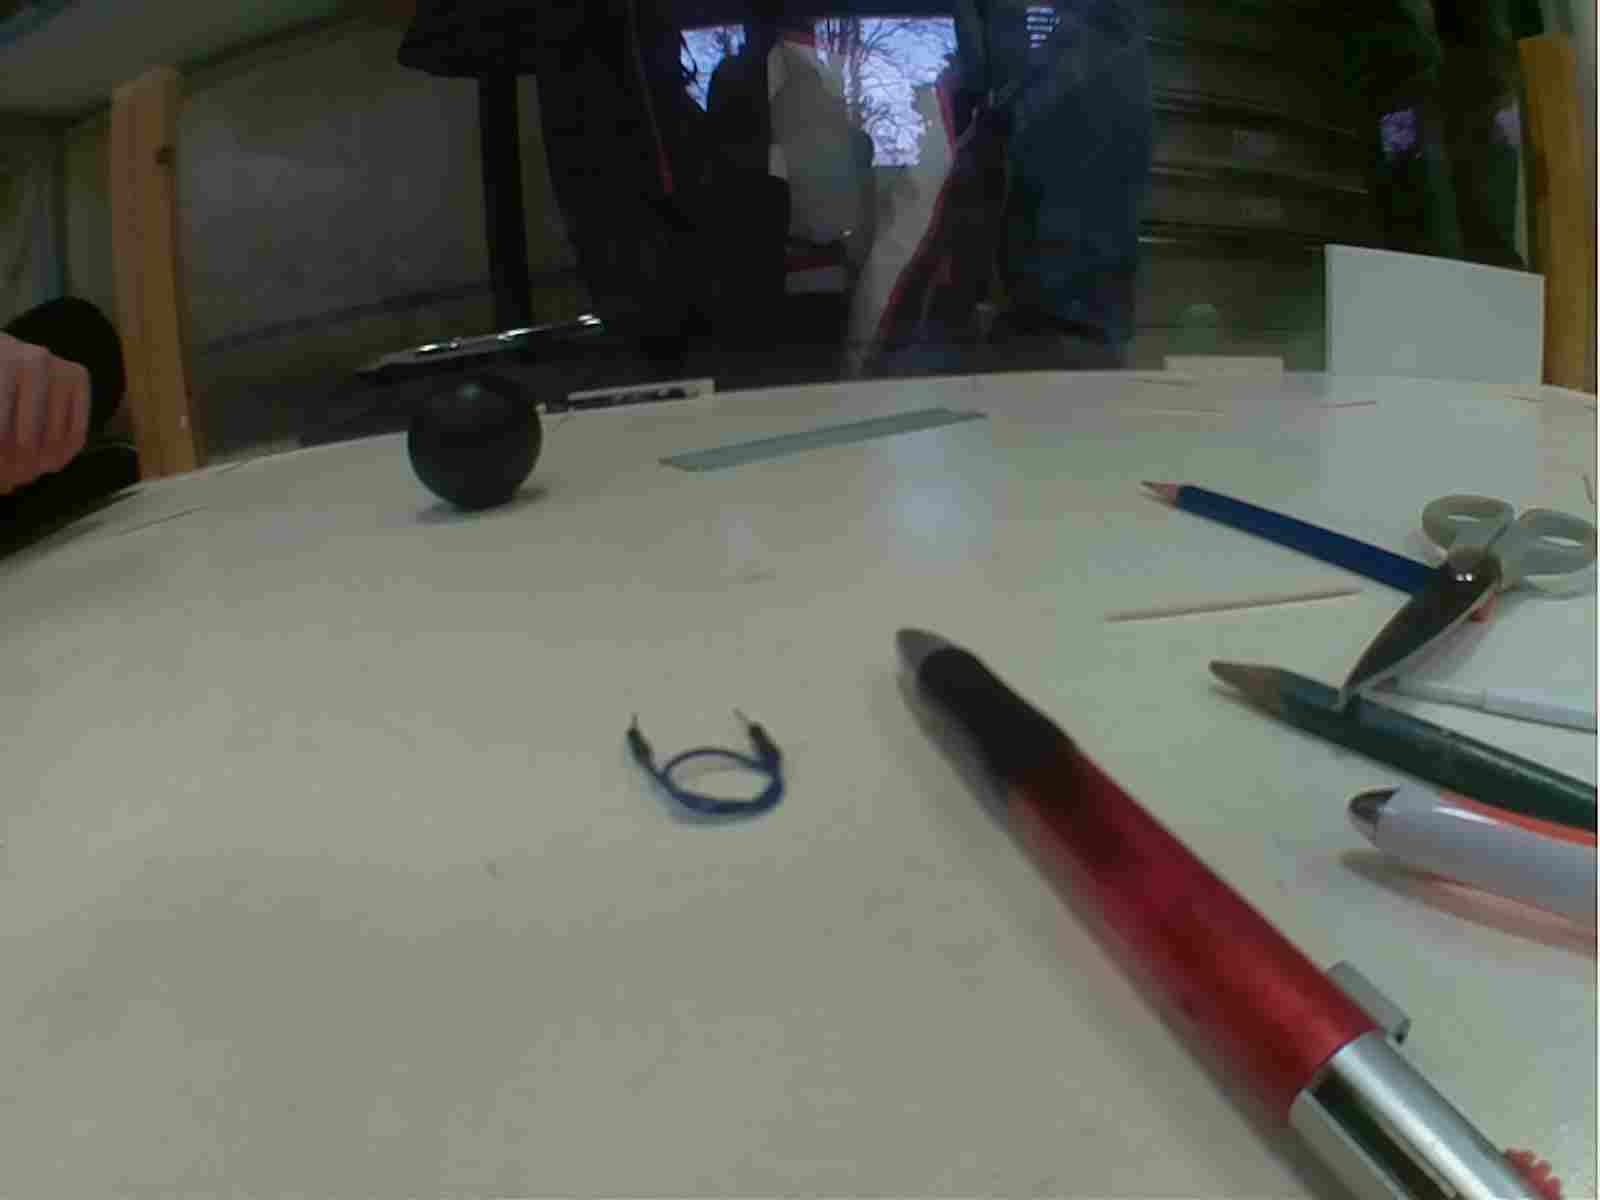nera: (396, 379, 551, 509)
